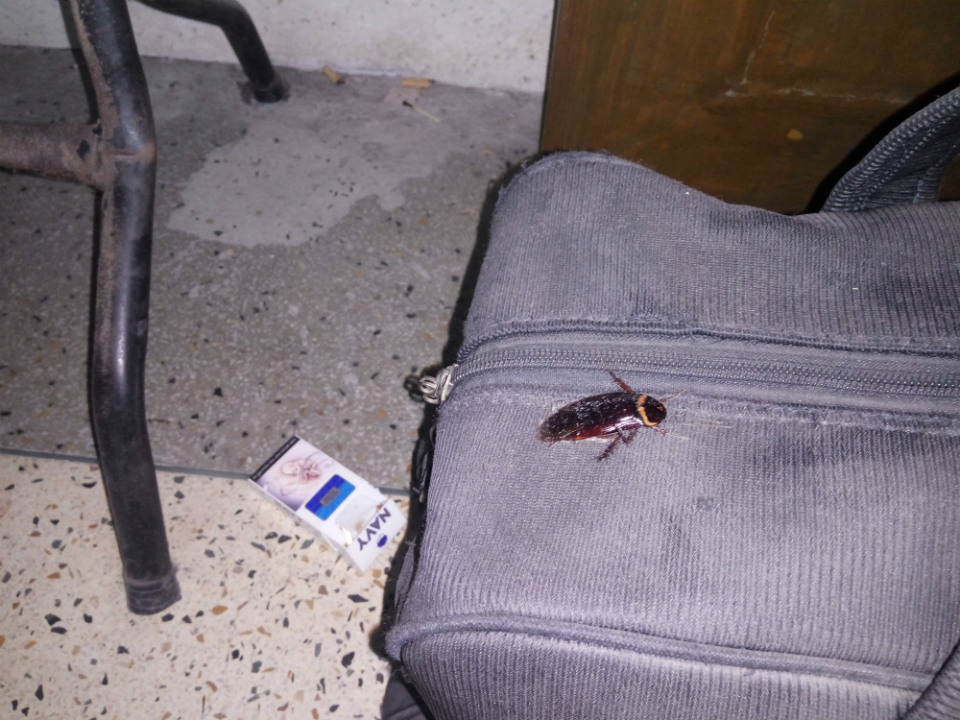cockroach: (461, 297, 724, 507)
